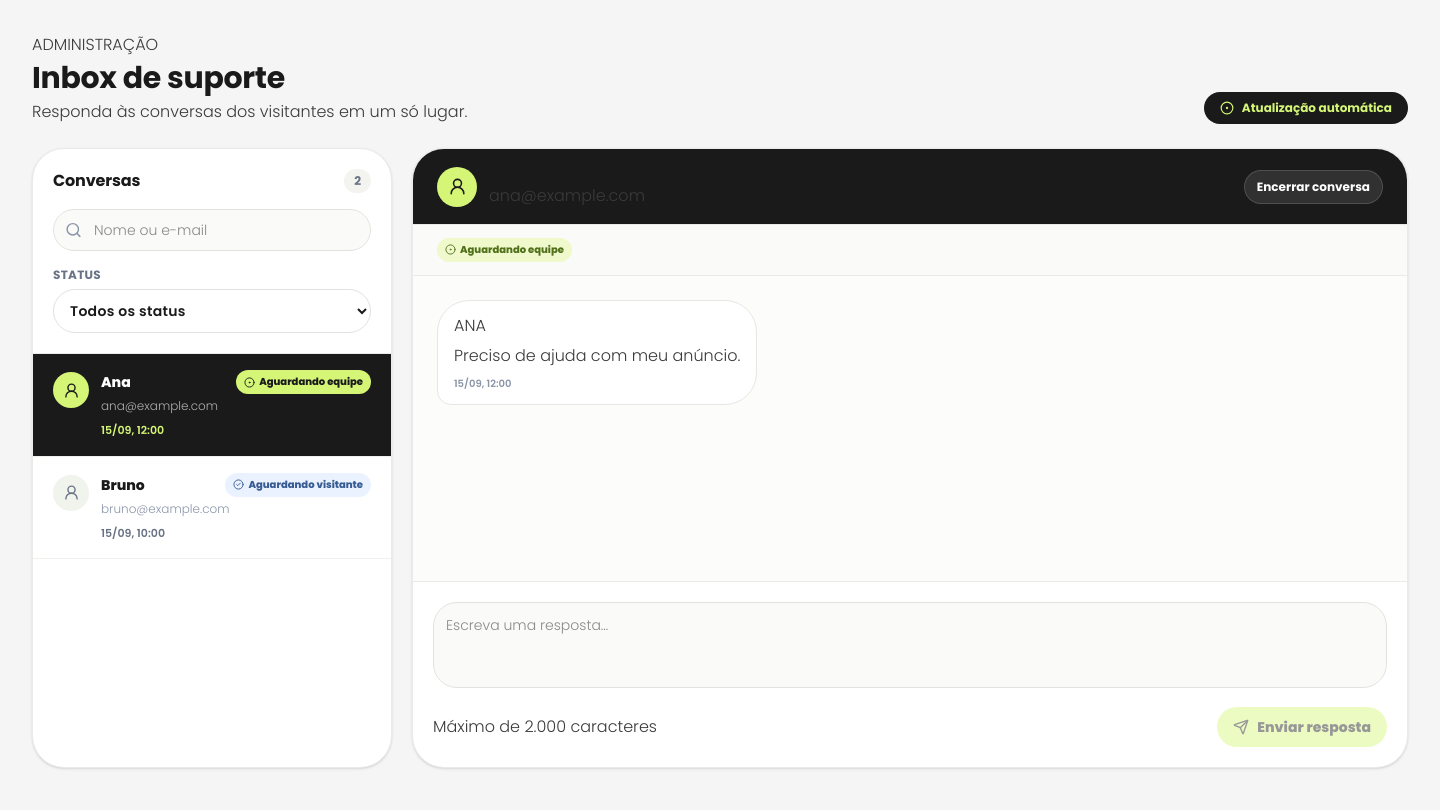
Test: AdminSupportInbox › filters conversations by status and visitor details
Expected: the button "Ana Aguardando equipe ana@example.com 15/09, 12:00" is shown, [33,354,391,457]
Select "Aguardando visitante" in the dropdown labelled "Status" at (212, 311), box [53,289,371,333]
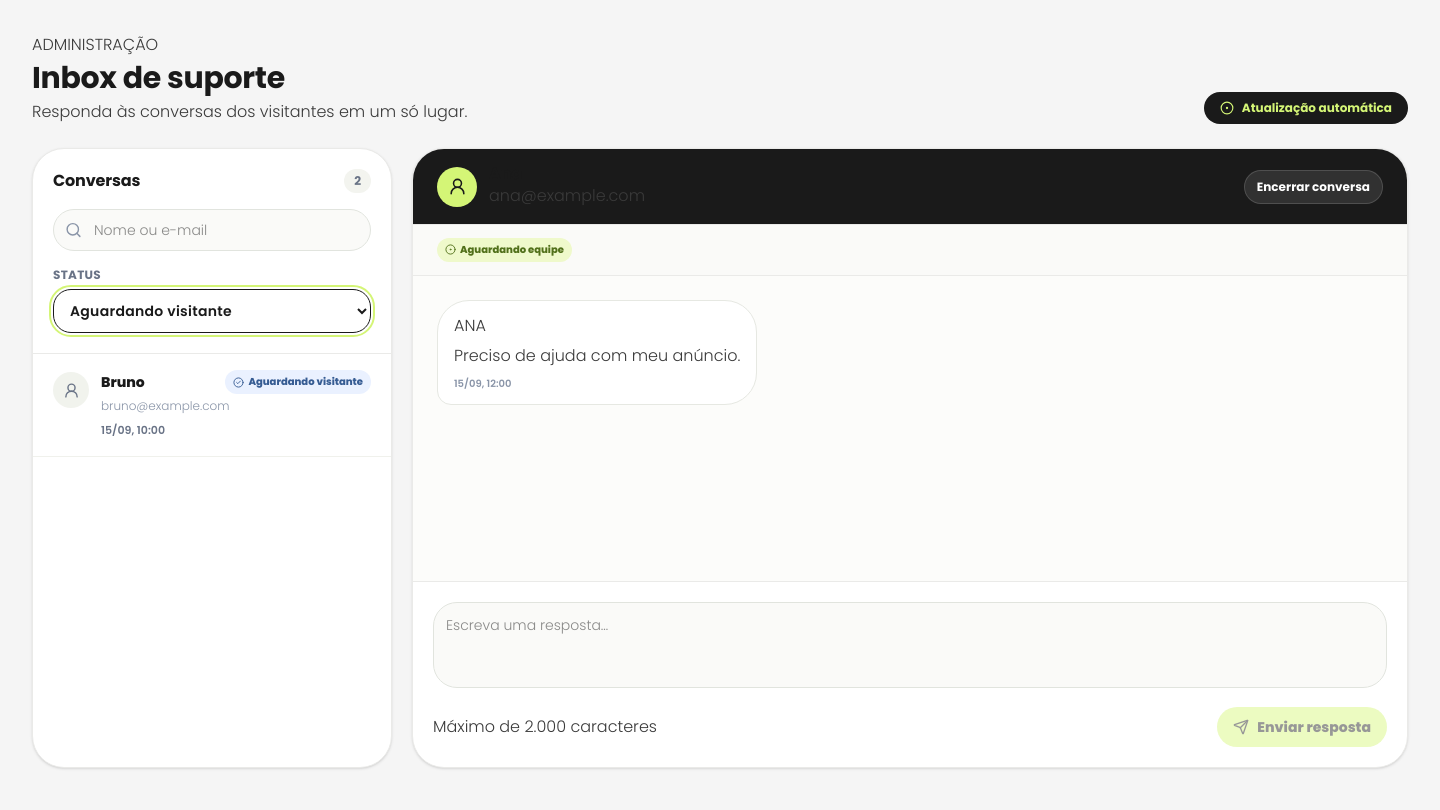
Expected: the button "Bruno Aguardando visitante bruno@example.com 15/09, 10:00" is shown, [33,354,391,457]
Select "Todos os status" in the dropdown labelled "Status" at (212, 311), box [53,289,371,333]
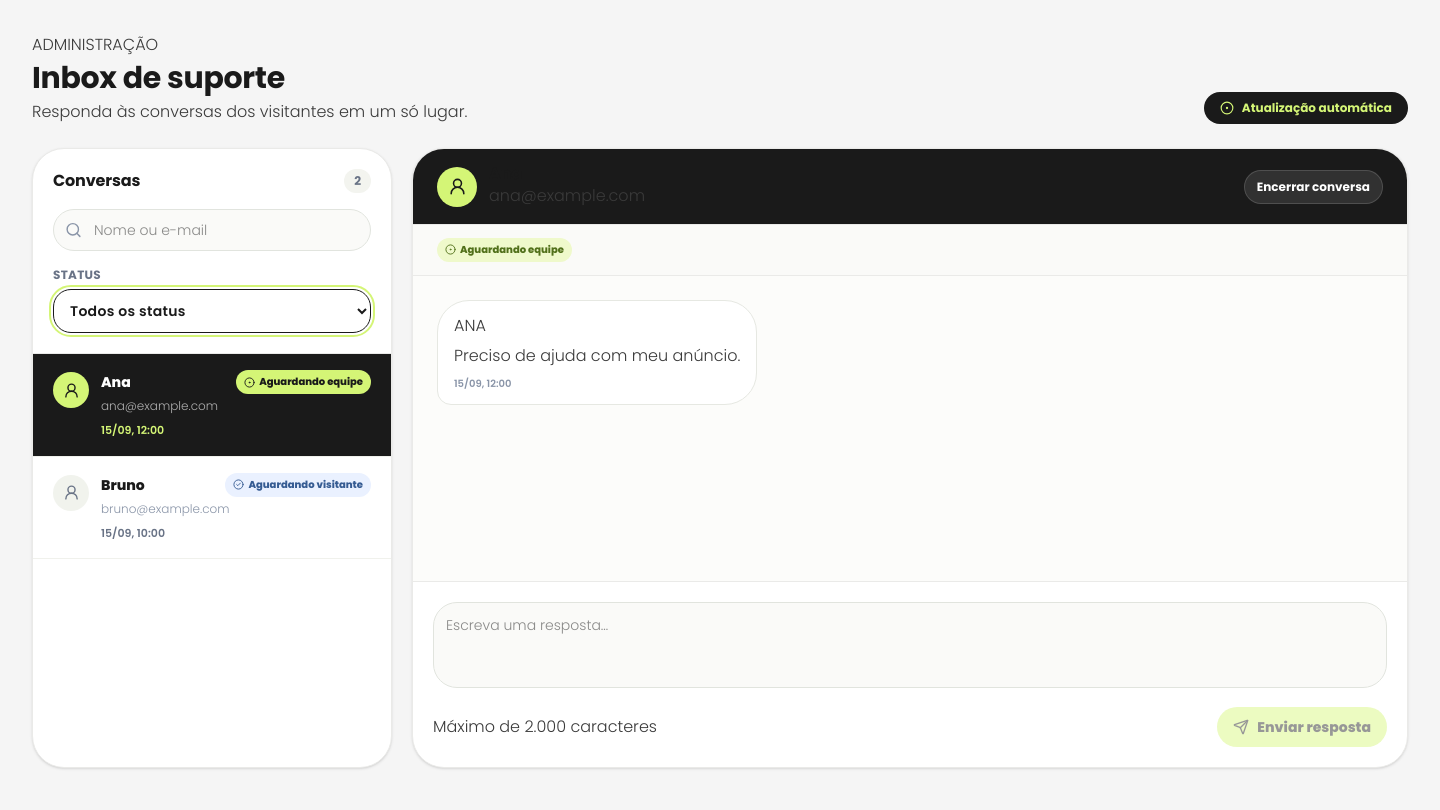
Type "ana@example.com" into the field named "Buscar conversas" at (212, 230), box [53,209,371,251]
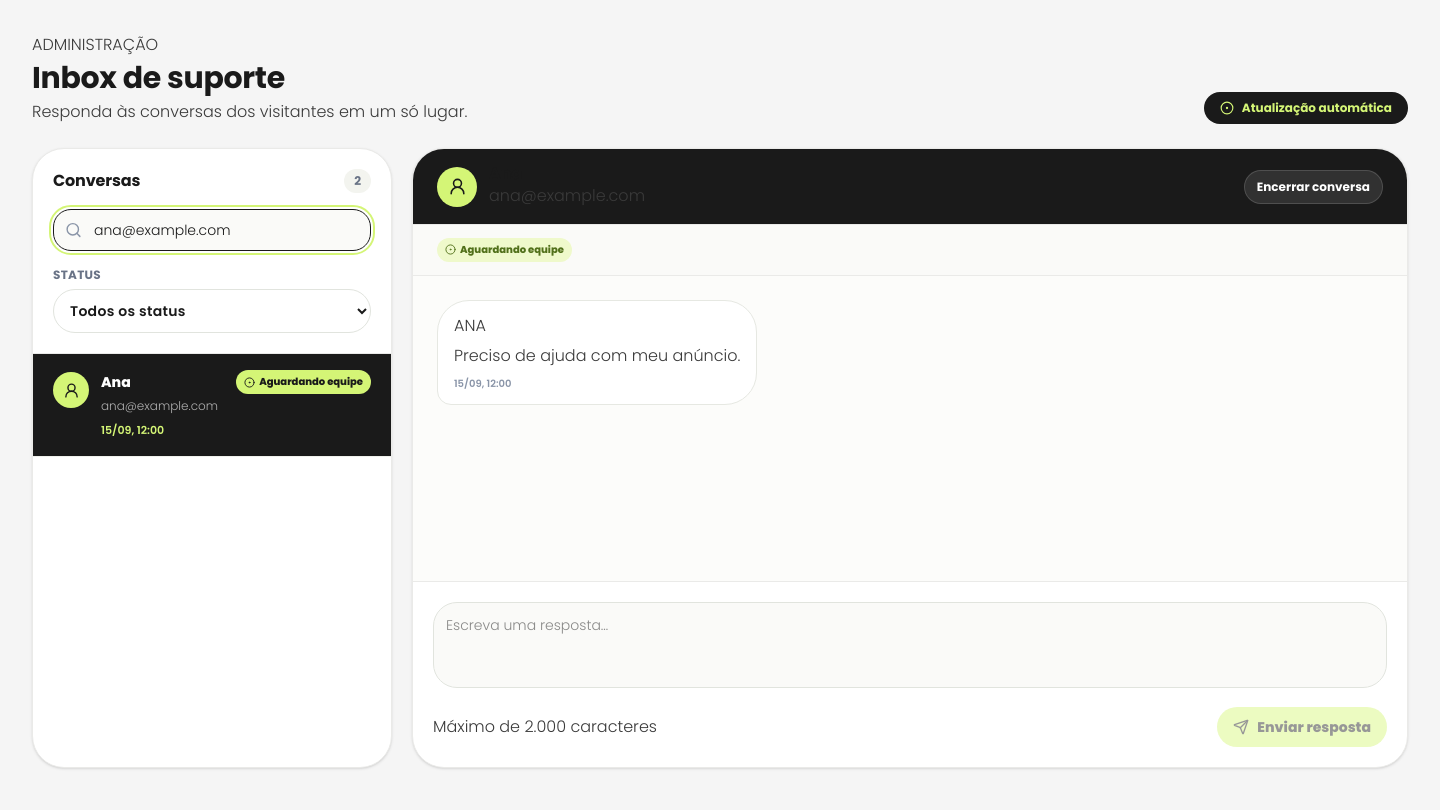
Expected: the button "Ana Aguardando equipe ana@example.com 15/09, 12:00" is shown, [33,354,391,457]
Expected: the button "Bruno" is gone
